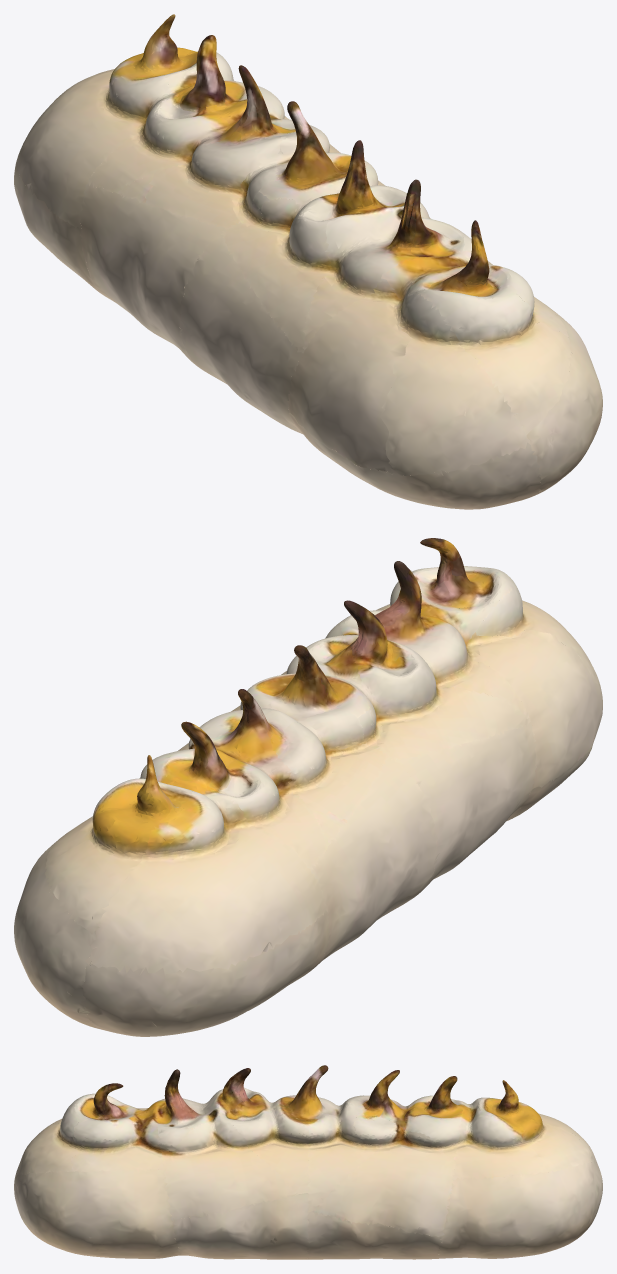
The model's file is 06_8_yellowdot_eclair6_sculpture-opt-v34.glb.
3 views of the same model, one above another, from view 1: azimuth 30°, elevation 25°; view 2: azimuth 150°, elevation 25°; view 3: azimuth 270°, elevation 25° (orthographic). The views are drawn at different scales.
Parts seen in each view (by area): view 1: exlair6.001; view 2: exlair6.001; view 3: exlair6.001.
Boxes of the visible parts, x1,y1,x2,y2 form: exlair6.001: (14, 14, 602, 509); exlair6.001: (14, 538, 602, 1036); exlair6.001: (14, 1065, 602, 1259).
Bounding box in the file's own units: 0.0426 × 0.042 × 0.125.
1 material, 1 textured.
